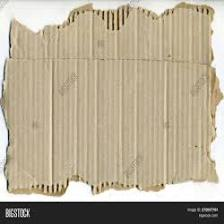cardboard: (9, 11, 214, 194)
